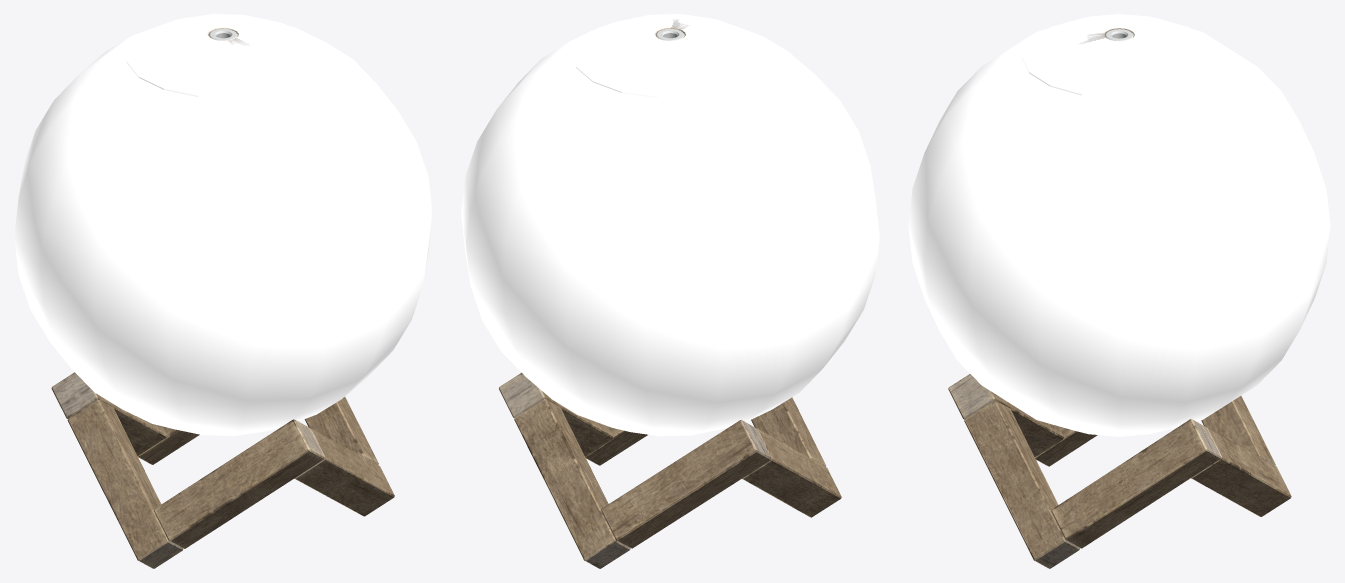
3 views of the same model, side by side, from view 1: azimuth 30°, elevation 25°; view 2: azimuth 150°, elevation 25°; view 3: azimuth 270°, elevation 25° (orthographic).
Parts seen in each view (by area): view 1: Moon2, Stand5, Stand6, Stand4, Stand1, Stand3, Stand2; view 2: Moon2, Stand1, Stand2, Stand6, Stand3, Stand5, Stand4; view 3: Moon2, Stand3, Stand4, Stand2, Stand5, Stand1, Stand6.
Part boxes in pixels (x1,y1,x2,y2): Moon2: [14, 14, 432, 435]; Stand5: [154, 419, 324, 548]; Stand6: [67, 399, 183, 568]; Stand4: [294, 428, 394, 516]; Stand1: [51, 372, 167, 455]; Stand3: [304, 397, 378, 464]; Stand2: [137, 426, 199, 464]; Moon2: [461, 14, 879, 436]; Stand1: [601, 420, 771, 548]; Stand2: [514, 399, 630, 568]; Stand6: [742, 429, 841, 517]; Stand3: [499, 372, 613, 456]; Stand5: [751, 397, 826, 466]; Stand4: [585, 426, 647, 465]; Moon2: [908, 14, 1330, 436]; Stand3: [1051, 419, 1220, 548]; Stand4: [964, 400, 1080, 568]; Stand2: [1191, 428, 1291, 516]; Stand5: [948, 374, 1063, 456]; Stand1: [1201, 396, 1275, 465]; Stand6: [1035, 426, 1097, 466].
Size of the model in its own units: 7 by 8.83 by 7.
Materials: 1 (1 with a texture image).
